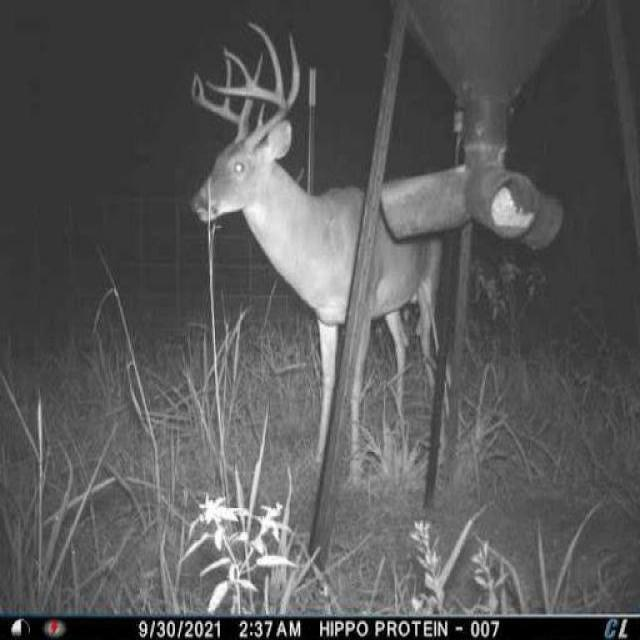deer: (184, 11, 452, 508)
